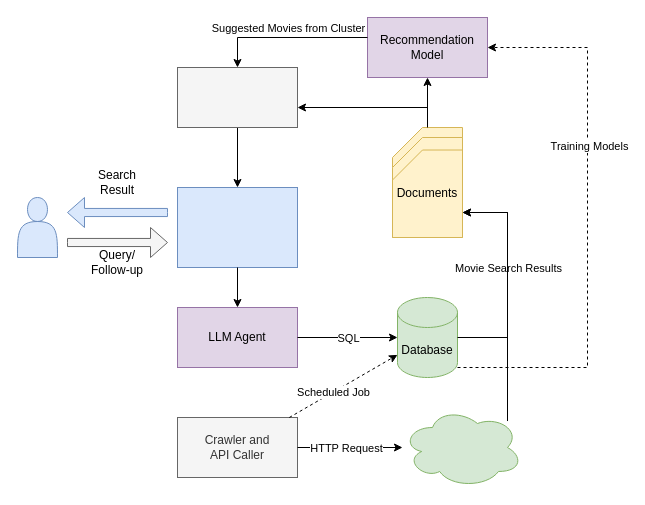
Image size: 645x505. Some labels were removed from this diagram. The centre of each missing label's shape, as x and y in pixels:
Reader: (x=237, y=97)
User Interface: (x=237, y=227)
Web Data: (x=462, y=447)
